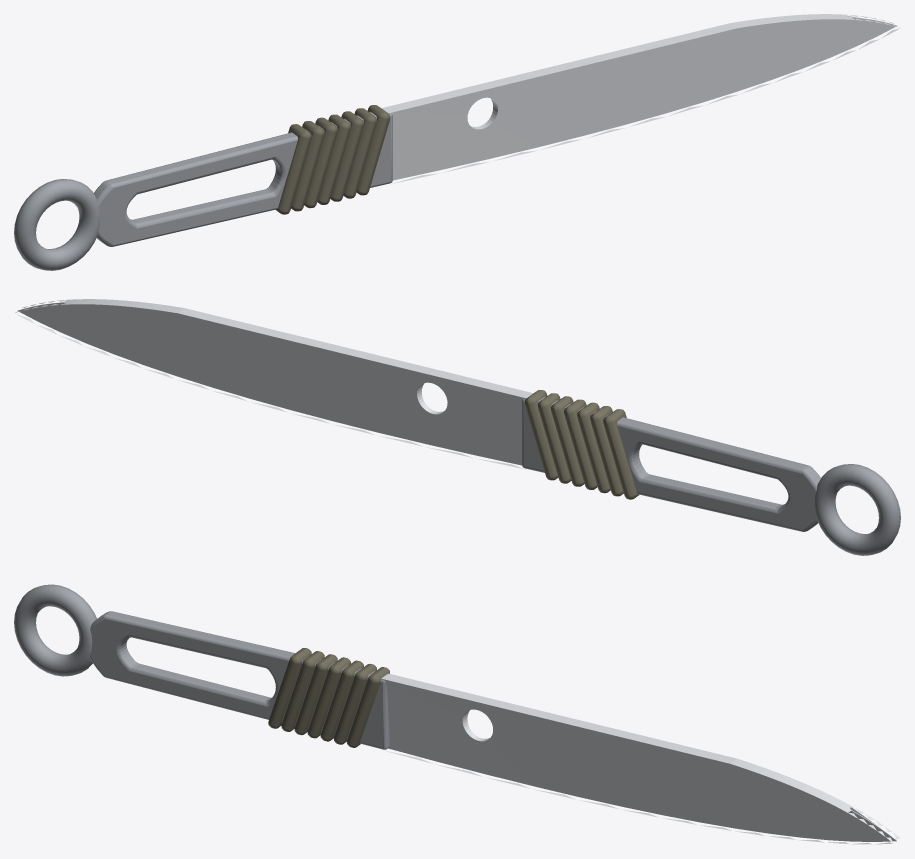
Rendered from knife_skeleton.glb.
3 renders of one model, top to bottom at view 1: azimuth 30°, elevation 25°; view 2: azimuth 150°, elevation 25°; view 3: azimuth 330°, elevation 25°, orthographic.
Visible parts, largest first — view 1: blade, frame, ring, cord6, cord4, cord5, cord3, cord2, cord0, cord1; view 2: blade, frame, ring, cord6, cord4, cord5, cord3, cord2, cord1, cord0; view 3: blade, frame, ring, cord6, cord4, cord5, cord3, cord2, cord0, cord1.
Part boxes in pixels (<box>): blade: <box>381,14,900,183</box>; frame: <box>94,112,392,246</box>; ring: <box>14,179,100,270</box>; cord6: <box>275,124,311,214</box>; cord4: <box>304,117,337,208</box>; cord5: <box>291,121,324,211</box>; cord3: <box>317,114,350,204</box>; cord2: <box>330,111,363,201</box>; cord0: <box>356,105,389,195</box>; cord1: <box>343,108,376,198</box>; blade: <box>15,299,533,469</box>; frame: <box>522,397,820,531</box>; ring: <box>814,464,900,555</box>; cord6: <box>603,409,639,499</box>; cord4: <box>577,402,610,493</box>; cord5: <box>590,406,623,496</box>; cord3: <box>564,399,597,489</box>; cord2: <box>551,396,584,486</box>; cord1: <box>538,393,571,483</box>; cord0: <box>525,390,558,480</box>; blade: <box>381,673,900,844</box>; frame: <box>90,611,389,749</box>; ring: <box>14,584,96,676</box>; cord6: <box>268,648,311,728</box>; cord4: <box>294,654,337,735</box>; cord5: <box>281,651,324,731</box>; cord3: <box>307,657,350,738</box>; cord2: <box>320,660,363,741</box>; cord0: <box>347,667,389,747</box>; cord1: <box>334,664,376,744</box>.
Size of the model in its own units: 0.3235 by 0.031 by 0.0098.
